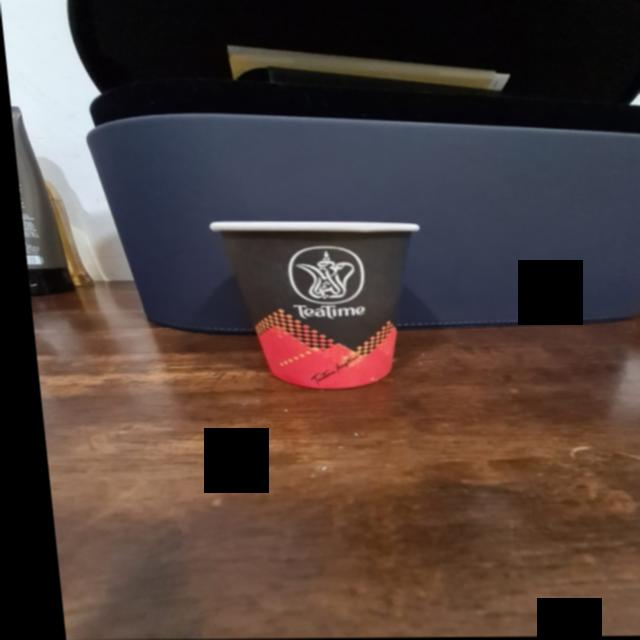cups: (203, 218, 438, 386)
